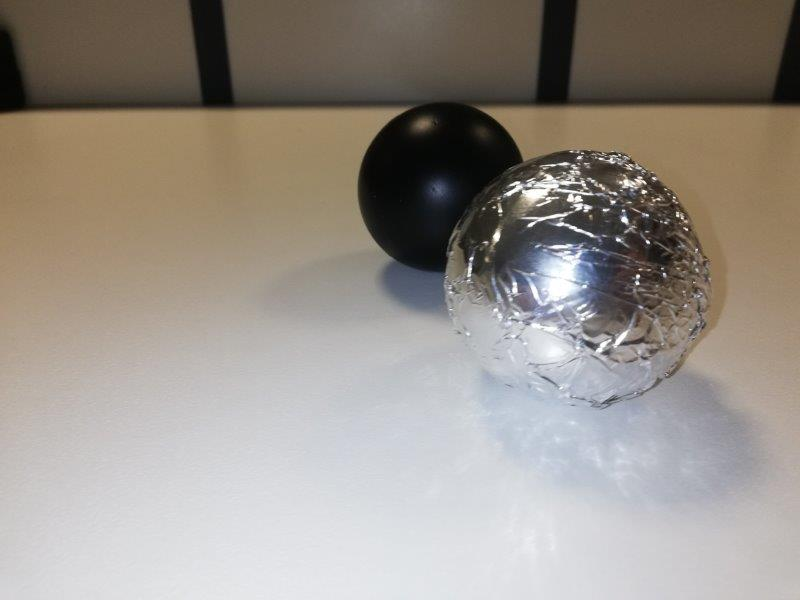bianca: (439, 149, 708, 408)
nera: (354, 100, 524, 272)
